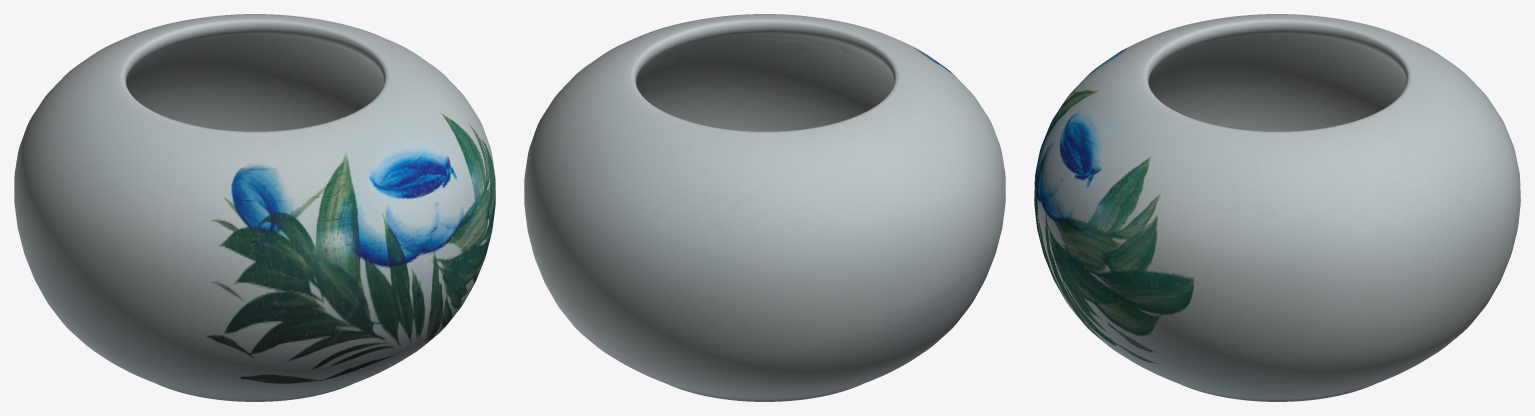
File: SM_PorcelainChamberPot.fbx
3 renders of one model, left to right at view 1: azimuth 30°, elevation 25°; view 2: azimuth 150°, elevation 25°; view 3: azimuth 270°, elevation 25°, orthographic.
Visible parts, largest first — view 1: SM_PorcelainChamberPot; view 2: SM_PorcelainChamberPot; view 3: SM_PorcelainChamberPot.
Boxes of the visible parts, x1=… form: SM_PorcelainChamberPot: x1=14, y1=14, x2=495, y2=401; SM_PorcelainChamberPot: x1=524, y1=14, x2=1005, y2=401; SM_PorcelainChamberPot: x1=1034, y1=14, x2=1520, y2=401.
Bounding box in the file's own units: 25.19 × 15.64 × 25.55.
1 material, 1 textured.
